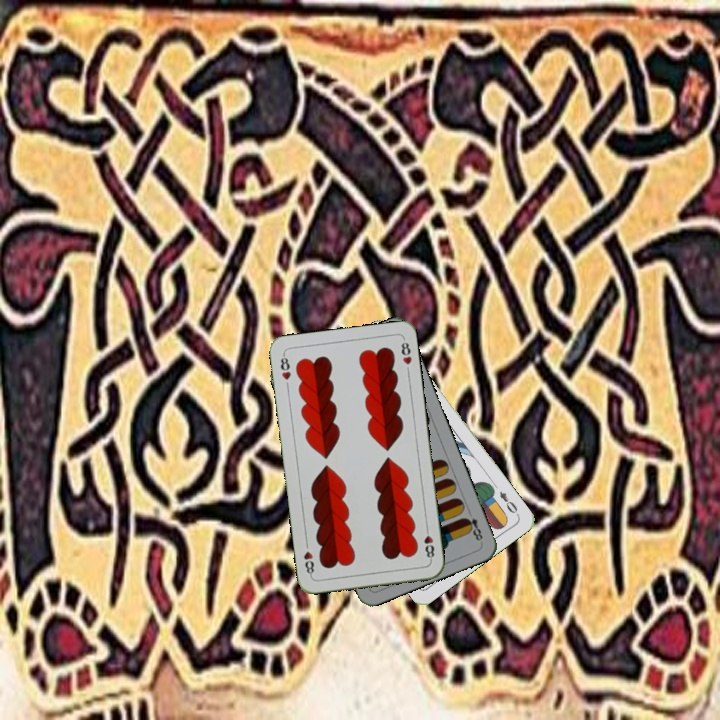E8: (460, 506, 485, 543)
EO: (495, 487, 522, 519)
H8: (420, 523, 437, 563), (276, 350, 294, 383)
